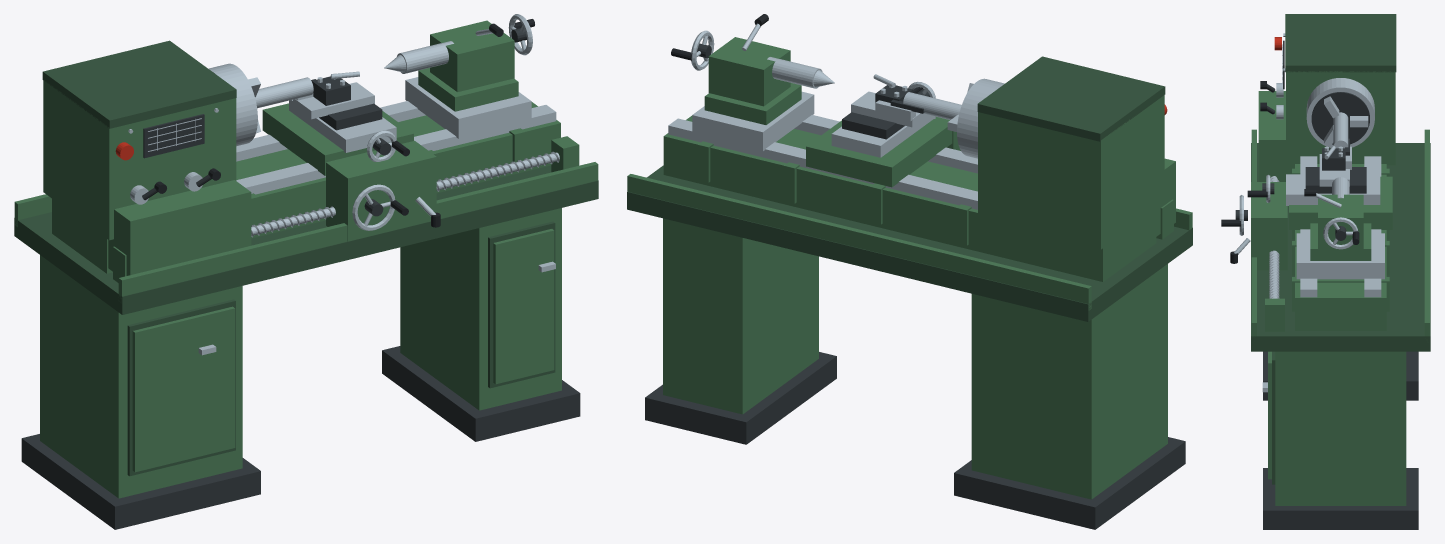
The model's file is TurningPoint_Leitspindeldrehbank.glb.
3 views of the same model, side by side, from view 1: azimuth 30°, elevation 25°; view 2: azimuth 150°, elevation 25°; view 3: azimuth 270°, elevation 25° (orthographic). The views are drawn at different scales.
Parts seen in each view (by area): view 1: Pedestal (×2), CabinetDoor (×2), Headstock, Foot (×2), ChipTray, HeadstockTop, Bed, Gearbox, TrayLip (×2), Apron, BedWay (×2), TailstockBody (+16 smaller); view 2: Pedestal (×2), Headstock, Bed, ChipTray, Foot (×2), HeadstockTop, TrayLip, Saddle, BedWay (×2), TailstockBody, TailstockBase, TailstockFoot (+7 smaller); view 3: Pedestal, ChipTray, HeadstockTop, Headstock, Foot (×2), Bed, Apron, TailstockBase, Gearbox, TailstockBody, TrayLip (×2), Saddle (+16 smaller).
Part boxes in pixels (x1=…): Pedestal (×2): x1=40, y1=208, x2=561, y2=498; CabinetDoor (×2): x1=132, y1=229, x2=554, y2=472; Headstock: x1=43, y1=80, x2=236, y2=240; Foot (×2): x1=21, y1=346, x2=580, y2=529; ChipTray: x1=14, y1=165, x2=598, y2=314; HeadstockTop: x1=42, y1=40, x2=236, y2=128; Bed: x1=52, y1=102, x2=560, y2=273; Gearbox: x1=108, y1=180, x2=251, y2=275; TrayLip (×2): x1=14, y1=162, x2=598, y2=303; Apron: x1=326, y1=140, x2=436, y2=241; BedWay (×2): x1=236, y1=101, x2=556, y2=194; TailstockBody: x1=430, y1=20, x2=514, y2=92; Pedestal (×2): x1=663, y1=218, x2=1167, y2=499; Headstock: x1=978, y1=95, x2=1164, y2=249; Bed: x1=663, y1=115, x2=1156, y2=281; ChipTray: x1=627, y1=165, x2=1192, y2=321; Foot (×2): x1=645, y1=352, x2=1185, y2=529; HeadstockTop: x1=977, y1=56, x2=1165, y2=141; TrayLip: x1=627, y1=174, x2=1091, y2=310; Saddle: x1=806, y1=119, x2=952, y2=187; BedWay (×2): x1=668, y1=115, x2=977, y2=209; TailstockBody: x1=708, y1=37, x2=790, y2=106; TailstockBase: x1=692, y1=91, x2=814, y2=151; TailstockFoot: x1=704, y1=83, x2=801, y2=124; Pedestal: x1=1275, y1=351, x2=1406, y2=505; ChipTray: x1=1251, y1=143, x2=1430, y2=351; HeadstockTop: x1=1285, y1=14, x2=1396, y2=72; Headstock: x1=1286, y1=71, x2=1395, y2=165; Foot (×2): x1=1263, y1=351, x2=1418, y2=529; Bed: x1=1295, y1=164, x2=1386, y2=330; Apron: x1=1251, y1=182, x2=1287, y2=270; TailstockBase: x1=1296, y1=233, x2=1384, y2=279; Gearbox: x1=1258, y1=91, x2=1294, y2=181; TailstockBody: x1=1318, y1=194, x2=1363, y2=256; TrayLip (×2): x1=1251, y1=129, x2=1429, y2=336; Saddle: x1=1289, y1=176, x2=1392, y2=229.
Bounding box in the file's own units: 1.5 × 1.2 × 0.6875.
